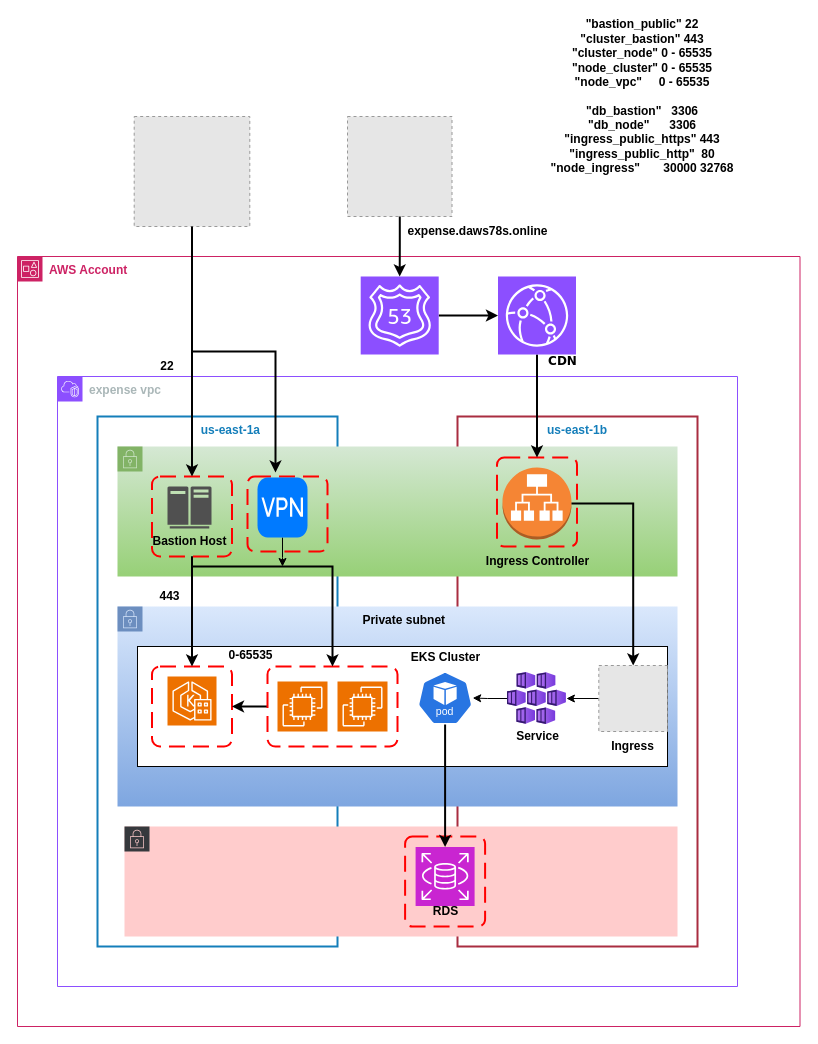
Some shapes in this 818 by 1044 pixel diagram are drawn without their labels. Grey dashed boxes stand in for pictures. Each missing label, with the box of its shape:
DB Subnet: (124, 826, 678, 936)
Public subnet: (116, 446, 678, 576)
